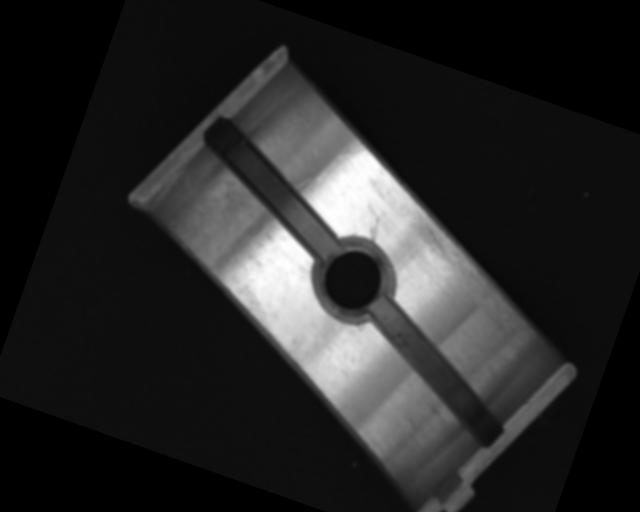gap: (341, 293, 532, 449), (182, 116, 361, 259)
hole: (304, 231, 402, 330)
nick: (315, 133, 366, 194), (367, 215, 383, 241)
scratch: (389, 208, 554, 338)
